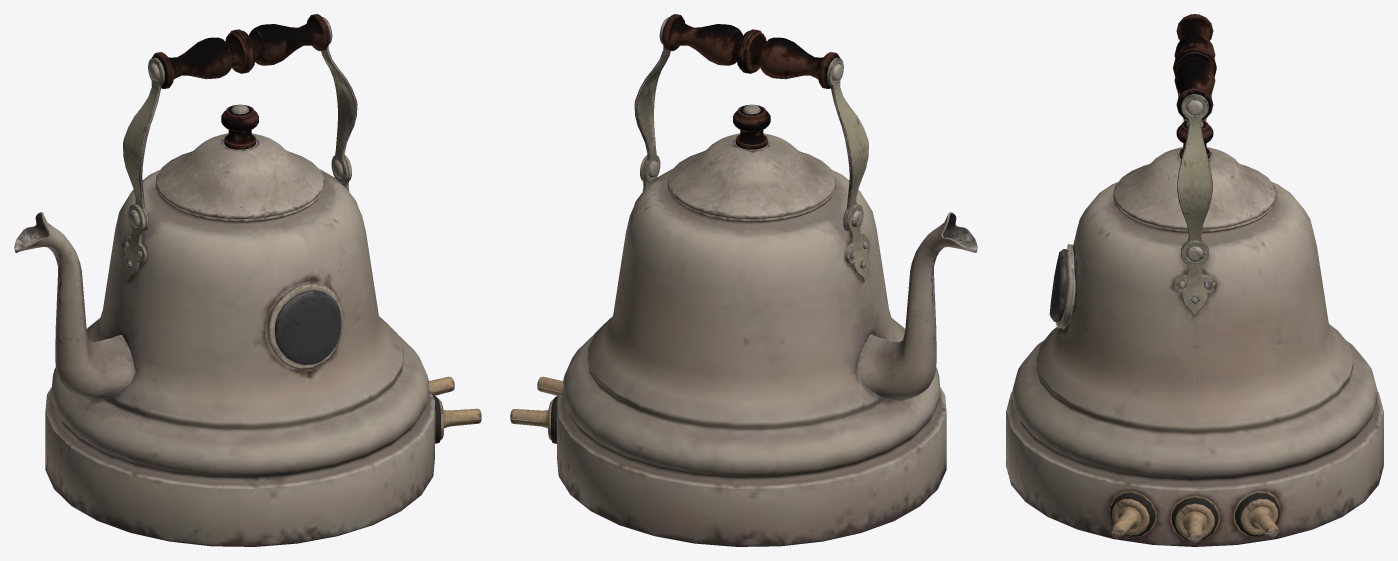
The model's file is vintage_electric_kettle.glb.
3 views of the same model, side by side, from view 1: azimuth 30°, elevation 25°; view 2: azimuth 150°, elevation 25°; view 3: azimuth 270°, elevation 25° (orthographic). The views are drawn at different scales.
Visible parts, largest first — view 1: vintage_electric_kettle; view 2: vintage_electric_kettle; view 3: vintage_electric_kettle.
Boxes of the visible parts, bbox=[...] form: vintage_electric_kettle: bbox=[14, 14, 481, 546]; vintage_electric_kettle: bbox=[510, 14, 977, 546]; vintage_electric_kettle: bbox=[1006, 14, 1383, 546].
Size of the model in its own units: 0.3209 by 0.3048 by 0.2486.
2 materials, 2 textured.
